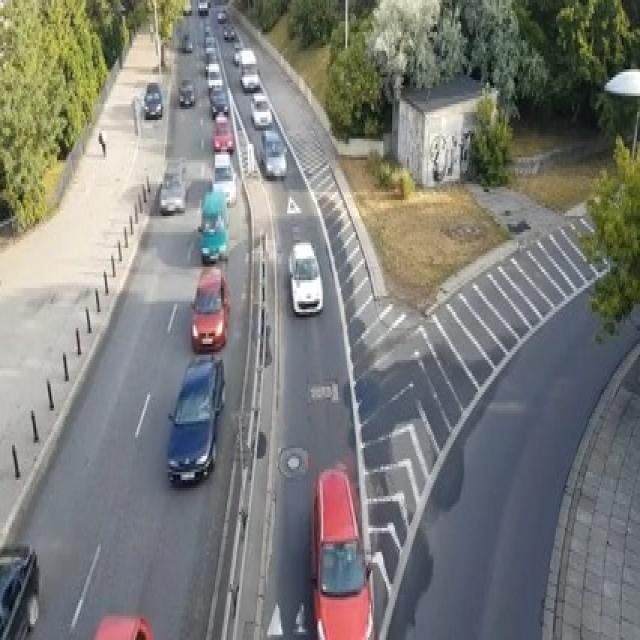car: (310, 467, 372, 637), (167, 352, 225, 485), (0, 542, 39, 638), (189, 267, 230, 352), (287, 240, 323, 315), (197, 187, 228, 264), (89, 614, 156, 638), (260, 128, 287, 179), (212, 152, 236, 205), (160, 168, 187, 213), (212, 112, 234, 152), (249, 91, 272, 128), (143, 80, 162, 117), (209, 86, 228, 118), (240, 64, 260, 91), (206, 62, 222, 94), (178, 77, 195, 107), (222, 21, 235, 40), (233, 40, 243, 64), (182, 34, 192, 50), (197, 0, 209, 13), (216, 8, 227, 21), (182, 0, 191, 13), (204, 24, 212, 35)
